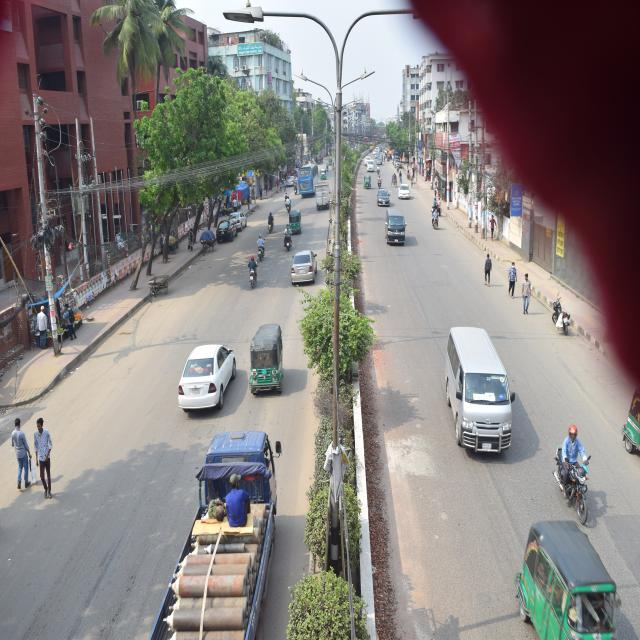bus: (295, 158, 315, 201)
car: (175, 329, 239, 432), (290, 249, 320, 304), (210, 213, 235, 253), (229, 202, 247, 236)
microbus: (433, 314, 517, 471), (372, 211, 407, 254)
motorbike: (548, 428, 610, 513), (544, 293, 580, 350), (250, 229, 267, 268), (426, 205, 444, 239), (248, 261, 261, 302), (282, 225, 296, 260), (265, 206, 275, 237), (377, 171, 386, 195), (282, 189, 290, 210)
pickup-van: (162, 426, 284, 626)
